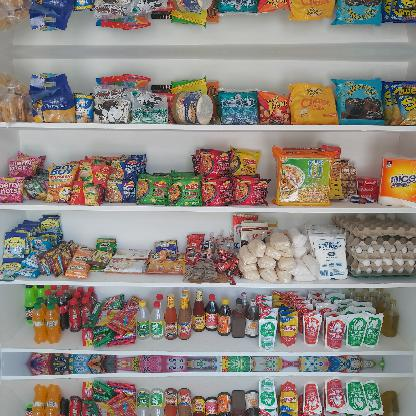Lady-s-Choice: (172, 92, 212, 124), (171, 0, 213, 13)
